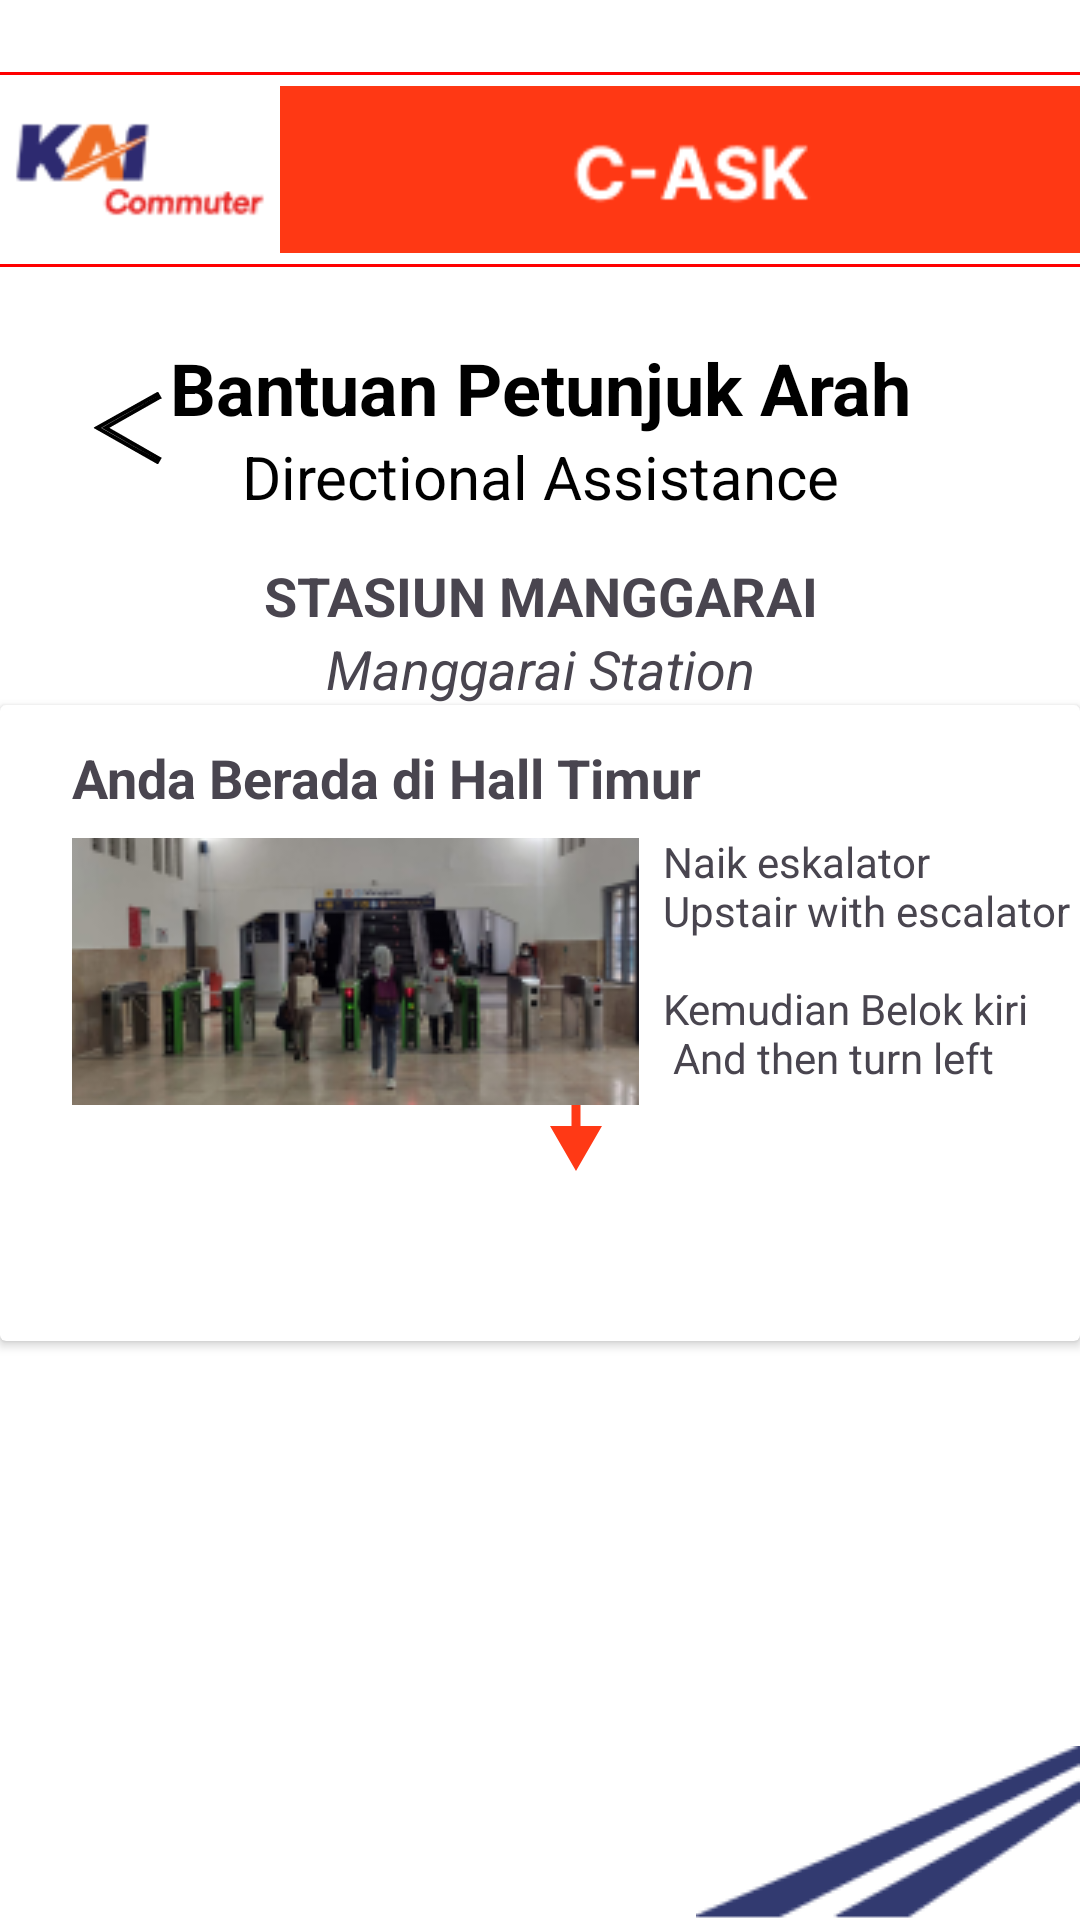

Named icons in this screenshot (1080×1920) and their bounding boxes, (x1, y1, x2, y2):
arrow: (550, 1105, 602, 1171)
arrow back: (94, 392, 162, 464)
